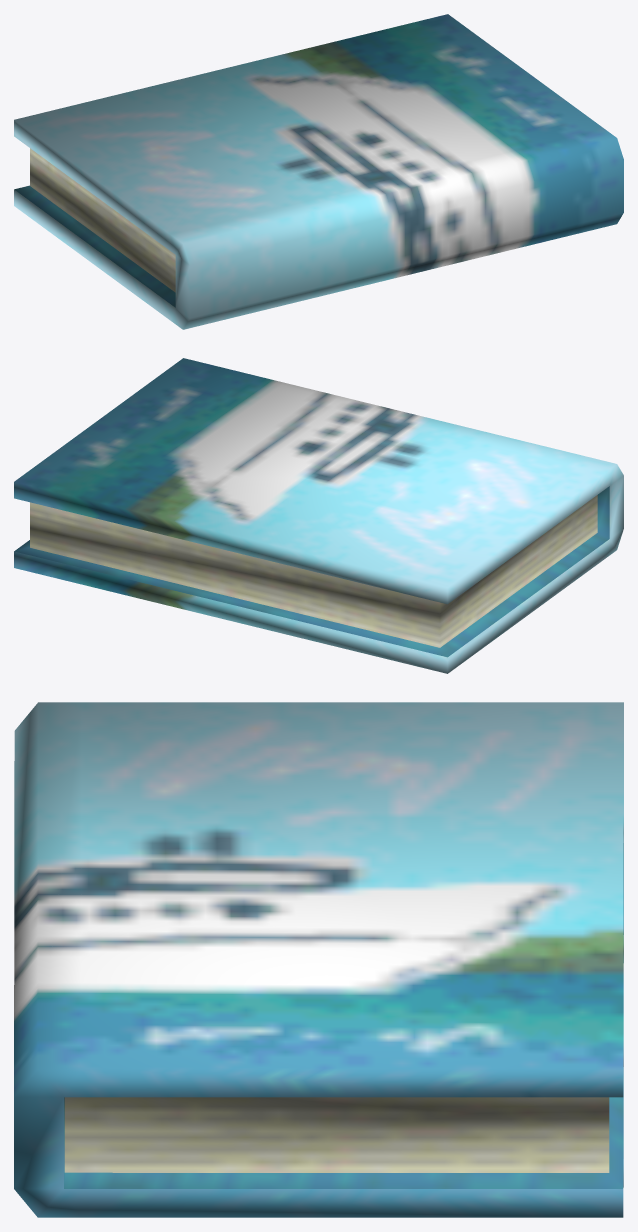
The model's file is book.dae.
The picture shows the model from 3 angles, top to bottom: view 1: azimuth 30°, elevation 25°; view 2: azimuth 150°, elevation 25°; view 3: azimuth 270°, elevation 25°; orthographic projection. The views are drawn at different scales.
Parts seen in each view (by area): view 1: Book2; view 2: Book2; view 3: Book2.
Boxes of the visible parts, x1,y1,x2,y2 form: Book2: [14, 14, 623, 329]; Book2: [14, 358, 623, 673]; Book2: [14, 702, 623, 1217].
Size of the model in its own units: 0.2726 by 0.1918 by 0.0517.
Materials: 1 (1 with a texture image).
